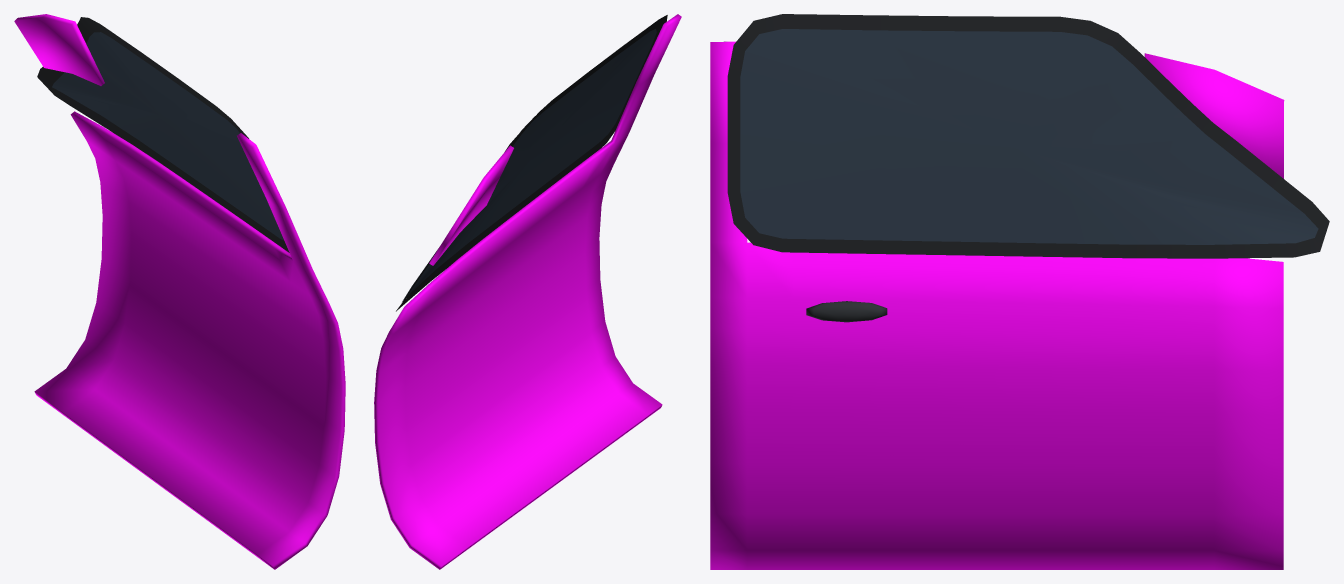
File: car-door-mini.obj
The picture shows the model from 3 angles, left to right: view 1: azimuth 30°, elevation 25°; view 2: azimuth 150°, elevation 25°; view 3: azimuth 270°, elevation 25°; orthographic projection. The views are drawn at different scales.
Visible parts, largest first — view 1: door, door_win_front.1.nocast, door_frame.win_front.1.nocast; view 2: door, door_win_front.1.nocast, door_frame.win_front.1.nocast; view 3: door, door_win_front.1.nocast, door_frame.win_front.1.nocast, door.handle.nocast.
Boxes of the visible parts, x1,y1,x2,y2 form: door: (14, 14, 345, 569); door_win_front.1.nocast: (52, 32, 283, 240); door_frame.win_front.1.nocast: (37, 17, 289, 252); door: (374, 14, 681, 569); door_win_front.1.nocast: (402, 29, 656, 301); door_frame.win_front.1.nocast: (396, 15, 667, 311); door: (710, 41, 1284, 569); door_win_front.1.nocast: (740, 29, 1318, 244); door_frame.win_front.1.nocast: (727, 14, 1329, 258); door.handle.nocast: (806, 301, 887, 322).
Bounding box in the file's own units: 0.2591 × 1.12 × 1.16.
